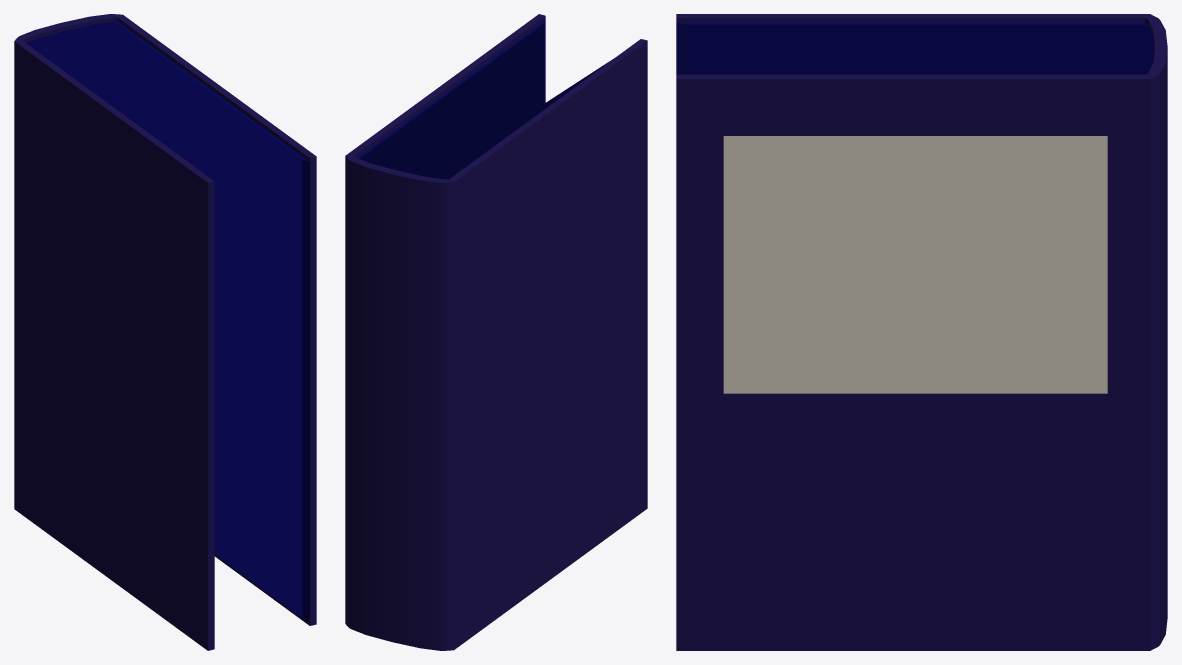
File: ブックカバー.fbx
The picture shows the model from 3 angles, left to right: view 1: azimuth 30°, elevation 25°; view 2: azimuth 150°, elevation 25°; view 3: azimuth 270°, elevation 25°; orthographic projection. The views are drawn at different scales.
Parts seen in each view (by area): view 1: pCube1; view 2: pCube1; view 3: pCube1.
Part boxes in pixels (x1,y1,x2,y2): pCube1: (14, 14, 316, 650); pCube1: (345, 14, 647, 650); pCube1: (676, 14, 1167, 650).
Size of the model in its own units: 1.49 by 6.12 by 4.76.
